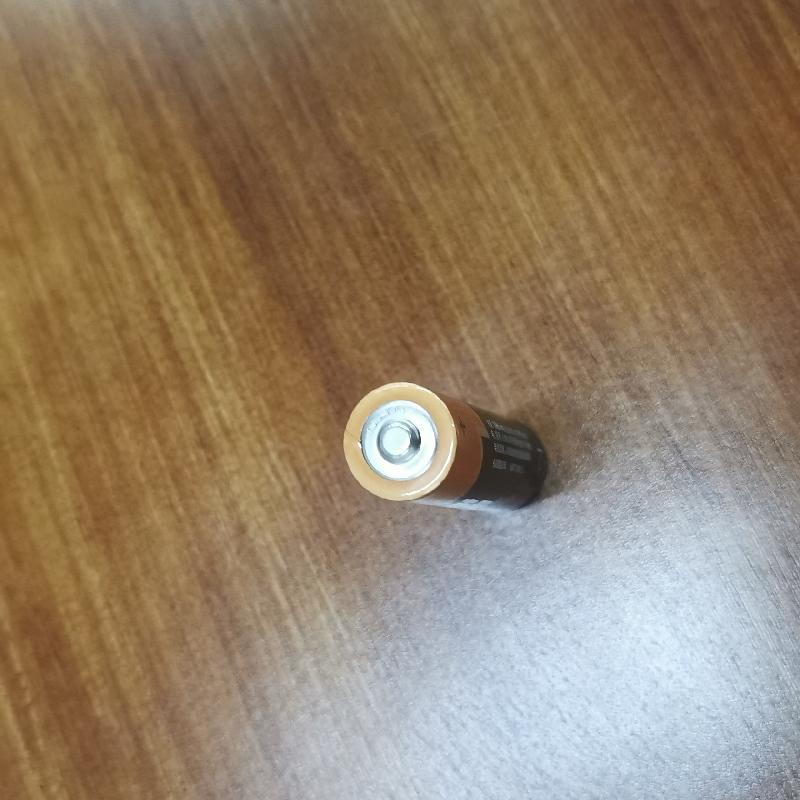battery: (336, 375, 552, 521)
